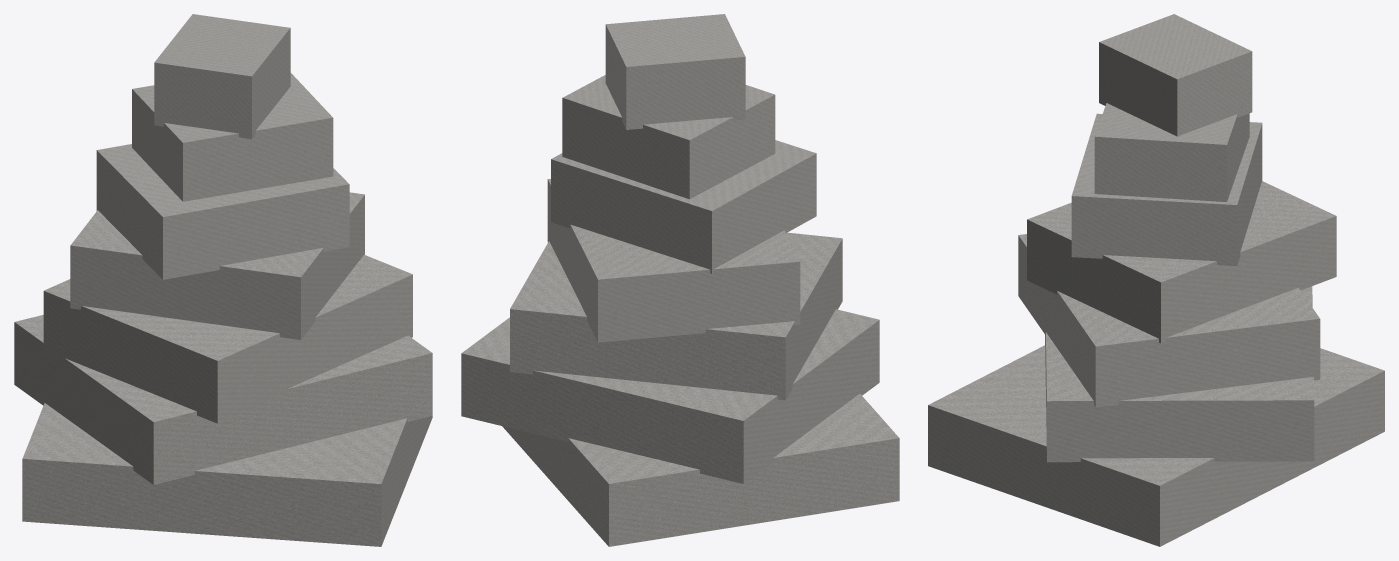
Rendered from andean-terraces-and-stone-village-path-cairn-bb3a95e7__38242.glb.
3 views of the same model, side by side, from view 1: azimuth 30°, elevation 25°; view 2: azimuth 150°, elevation 25°; view 3: azimuth 270°, elevation 25° (orthographic). The views are drawn at different scales.
Visible parts, largest first — view 1: path-cairn-stone; view 2: path-cairn-stone; view 3: path-cairn-stone.
Boxes of the visible parts, box(x1,y1,x2,y2) form: path-cairn-stone: box(14, 14, 432, 546); path-cairn-stone: box(461, 14, 899, 546); path-cairn-stone: box(928, 14, 1384, 546).
Bounding box in the file's own units: 1.1 × 1.06 × 1.09.
1 material, 1 textured.
